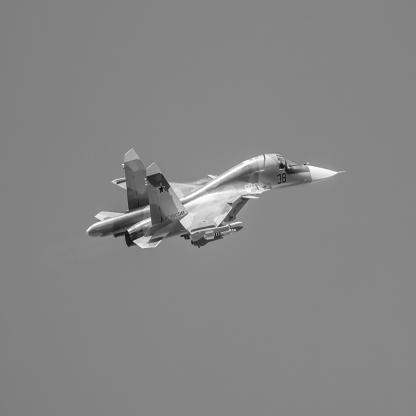Su34: (87, 148, 347, 250)
